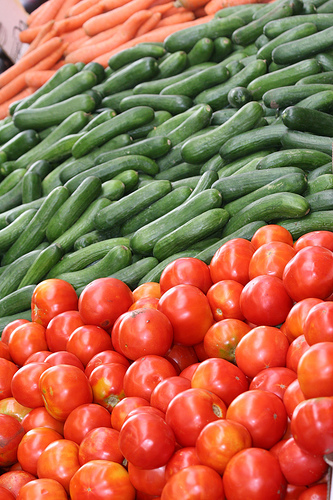cucumber: (11, 90, 92, 131)
